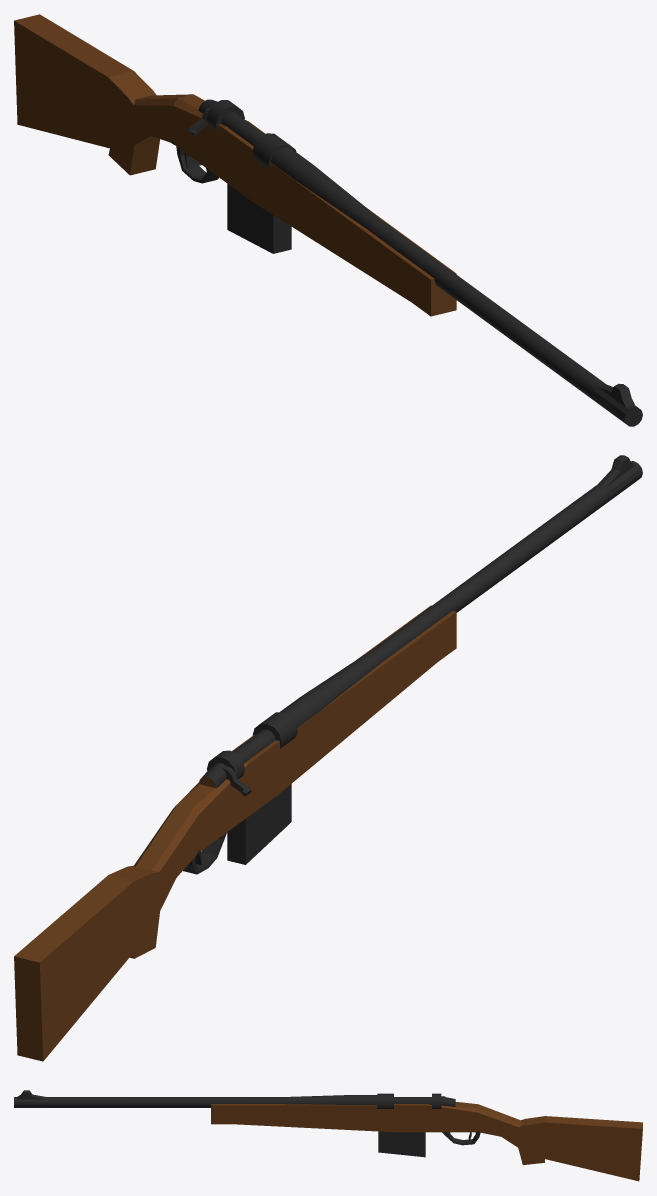
File: SniperModel.FBX
3 views of the same model, one above another, from view 1: azimuth 30°, elevation 25°; view 2: azimuth 150°, elevation 25°; view 3: azimuth 270°, elevation 25° (orthographic). The views are drawn at different scales.
Visible parts, largest first — view 1: Box01, Box02; view 2: Box01, Box02; view 3: Box01, Box02.
Boxes of the visible parts, box(x1,y1,x2,y2) form: Box01: box(14, 14, 642, 426); Box02: box(227, 184, 291, 253); Box01: box(14, 455, 642, 1061); Box02: box(227, 784, 291, 864); Box01: box(14, 1090, 642, 1181); Box02: box(378, 1131, 425, 1157).
Bounding box in the file's own units: 30.79 × 111 × 722.
